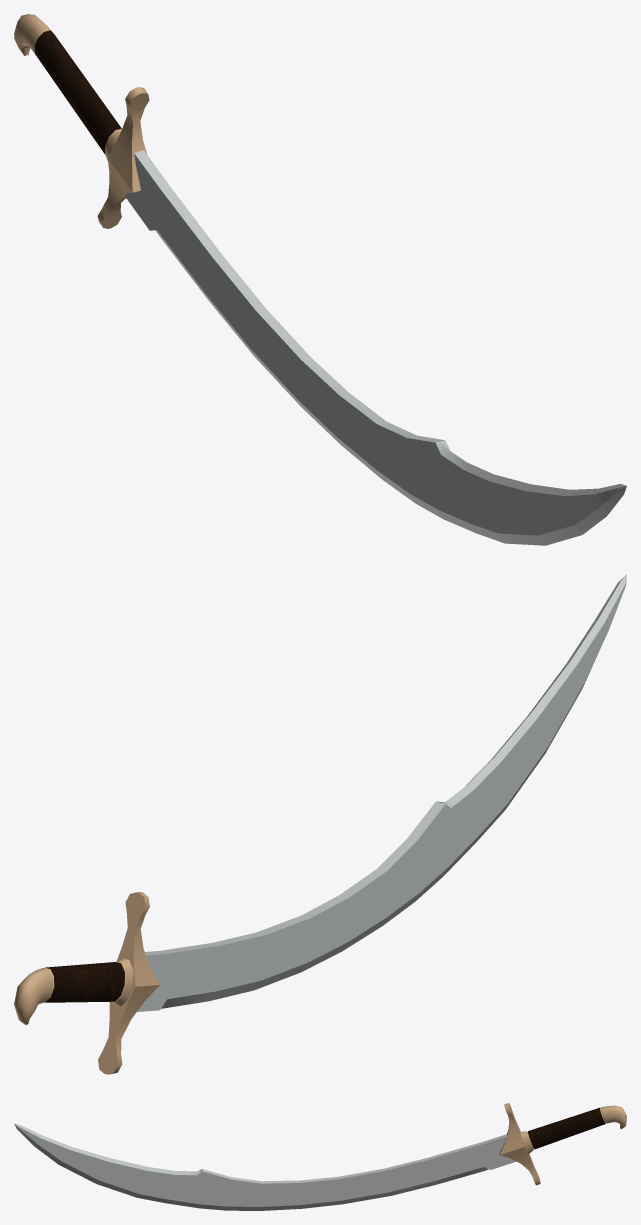
Rendered from sword.fbx.
The picture shows the model from 3 angles, top to bottom: view 1: azimuth 30°, elevation 25°; view 2: azimuth 150°, elevation 25°; view 3: azimuth 270°, elevation 25°; orthographic projection. The views are drawn at different scales.
Visible parts, largest first — view 1: Handle_LP; view 2: Handle_LP; view 3: Handle_LP.
Boxes of the visible parts, x1,y1,x2,y2 form: Handle_LP: (14, 14, 626, 545); Handle_LP: (14, 574, 626, 1074); Handle_LP: (14, 1103, 626, 1210).
Bounding box in the file's own units: 5.21 × 38.72 × 200.
